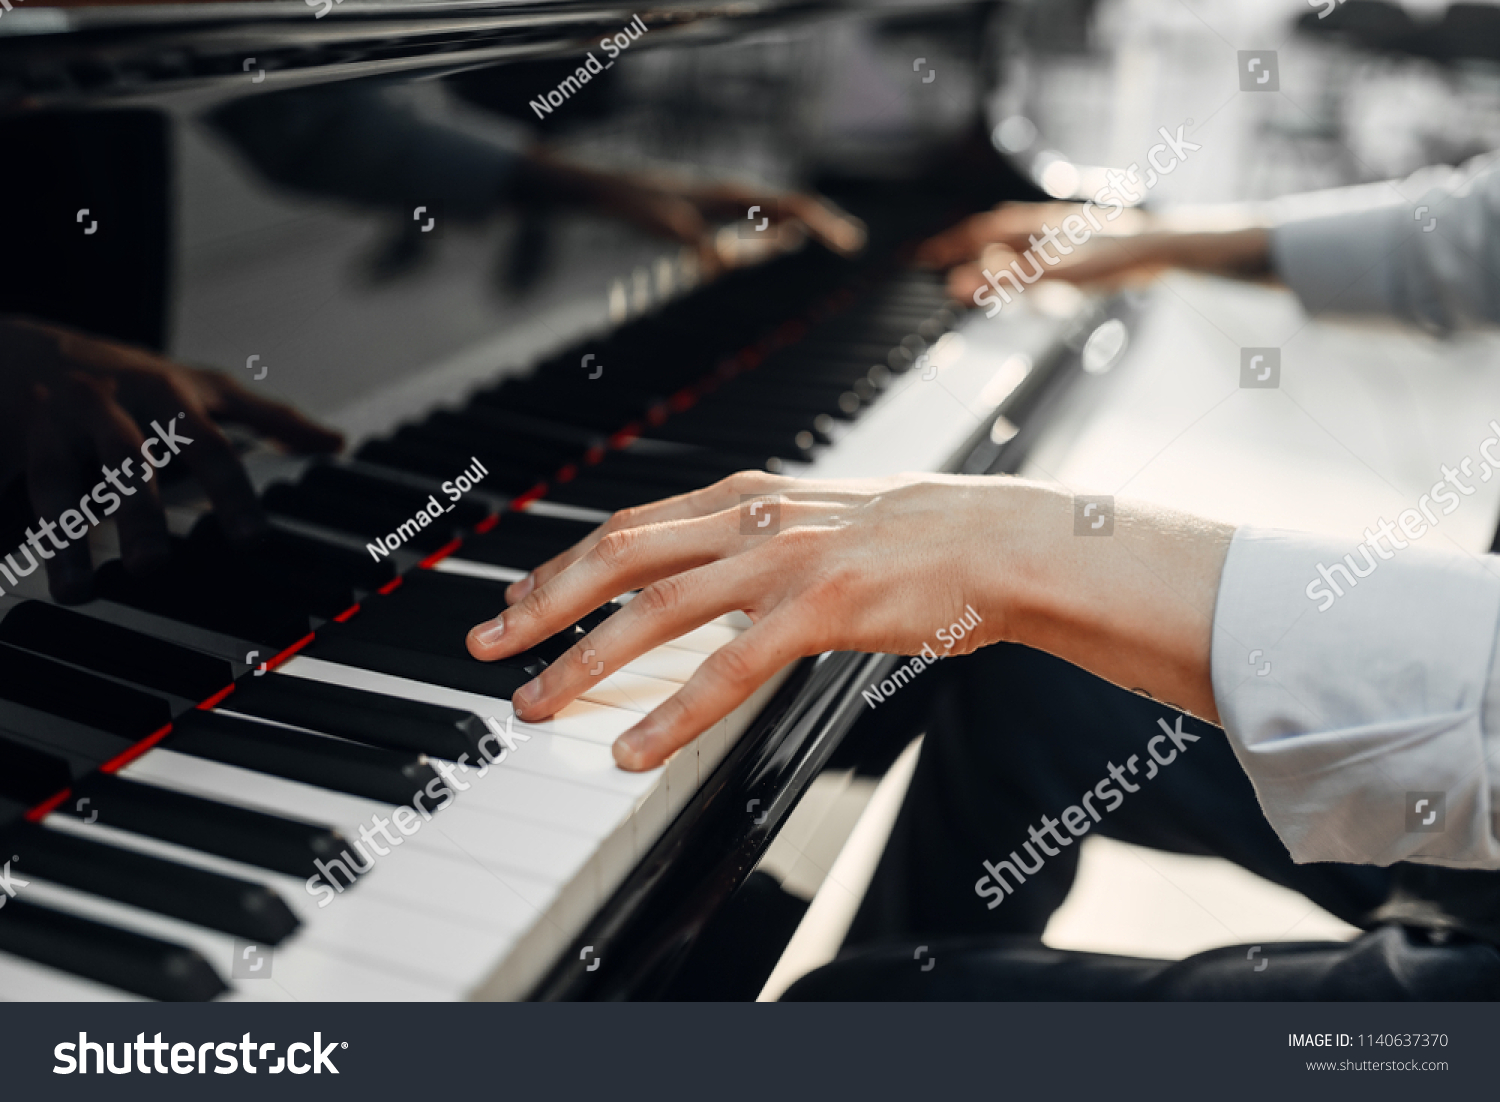Piano: (1, 6, 1202, 1001)
